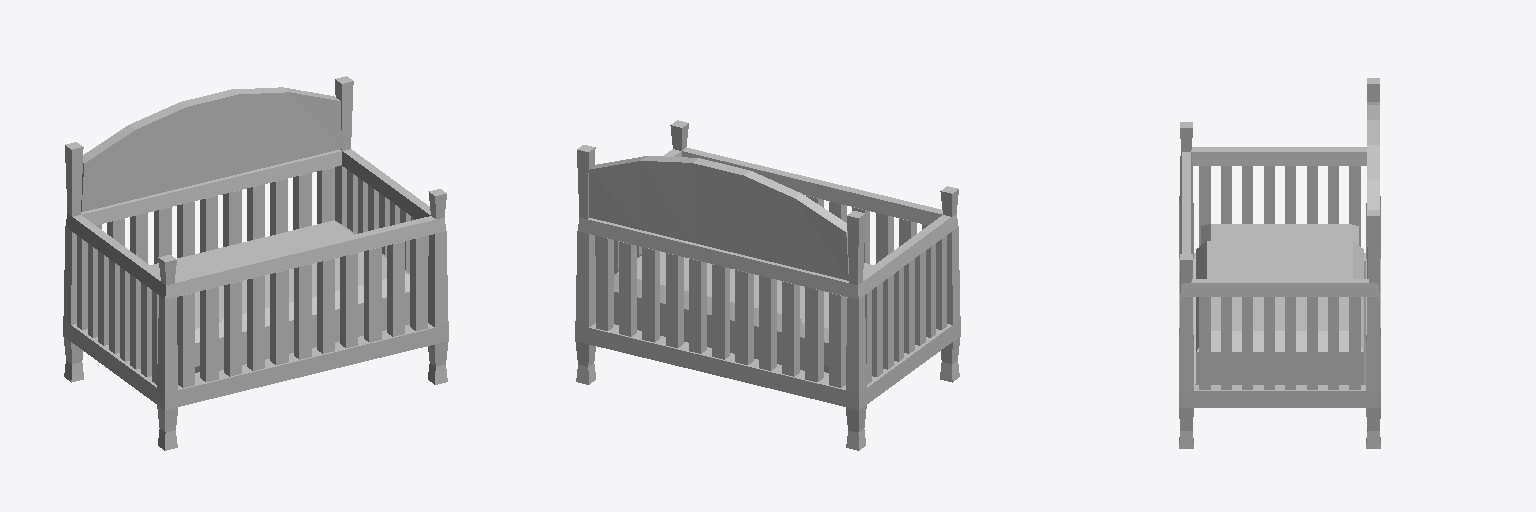
The model's file is Crib_Tidy.obj.
3 views of the same model, side by side, from view 1: azimuth 30°, elevation 25°; view 2: azimuth 150°, elevation 25°; view 3: azimuth 270°, elevation 25° (orthographic).
Visible parts, largest first — view 1: Crib_Cube.006; view 2: Crib_Cube.006; view 3: Crib_Cube.006.
Boxes of the visible parts, <box> form: Crib_Cube.006: <box>63,76,448,450</box>; Crib_Cube.006: <box>575,120,960,450</box>; Crib_Cube.006: <box>1179,78,1380,448</box>.
Size of the model in its own units: 4.74 by 3.95 by 2.94.